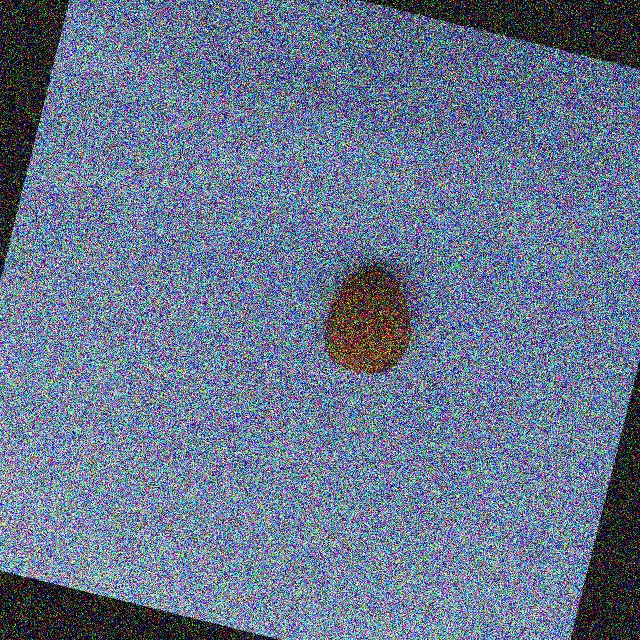grade1: (305, 248, 433, 390)
